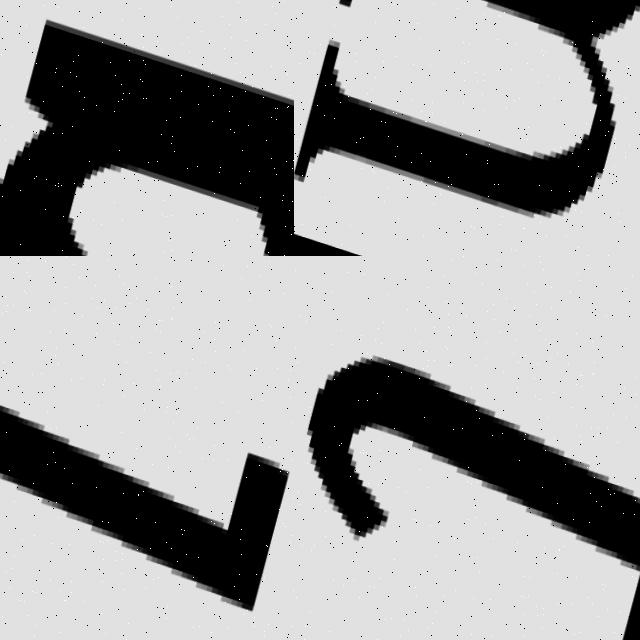B: (0, 17, 294, 256)
J: (0, 256, 294, 640)
M: (294, 0, 640, 256)
T: (294, 293, 640, 640)
